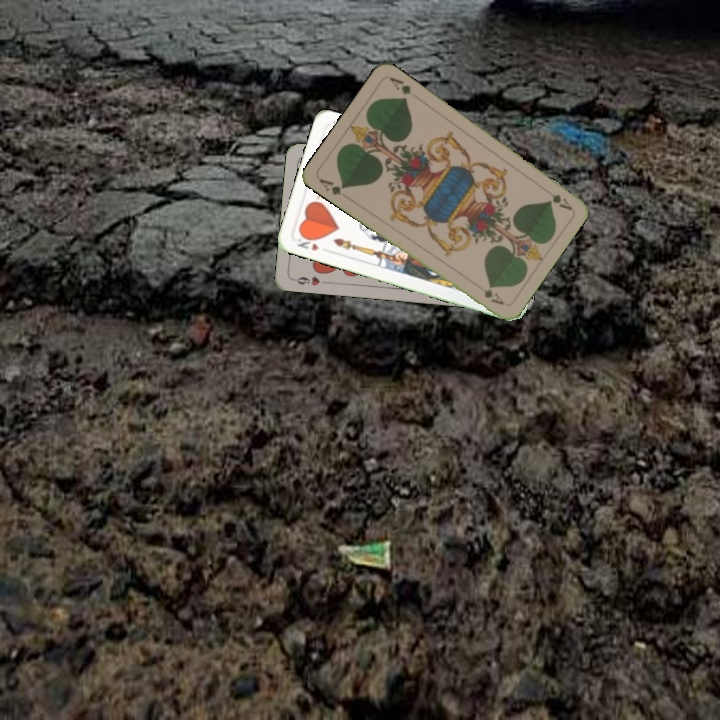GA: (315, 174, 348, 198), (548, 190, 575, 213)
H9: (289, 272, 330, 288)
HK: (291, 231, 321, 253)
